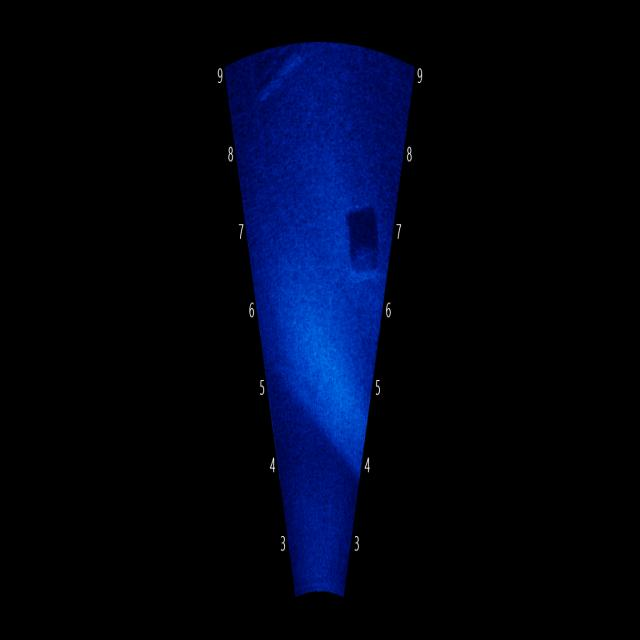square: (335, 186, 389, 294)
